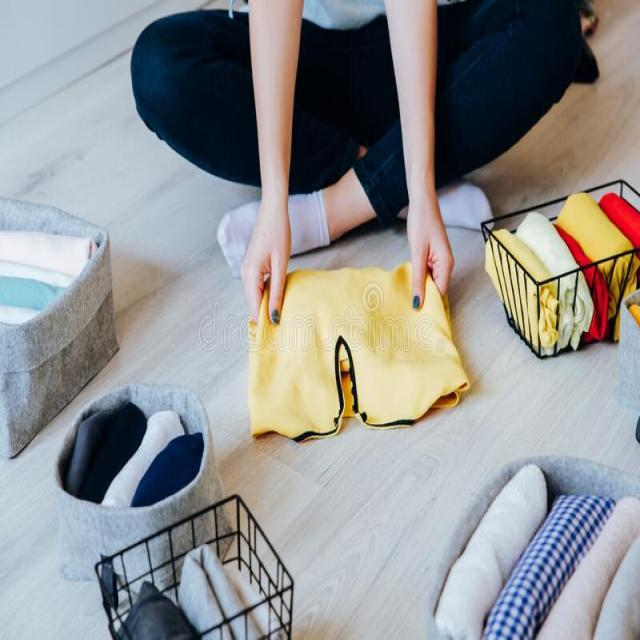clothes: (254, 260, 462, 438), (455, 467, 640, 640), (73, 410, 202, 516)
